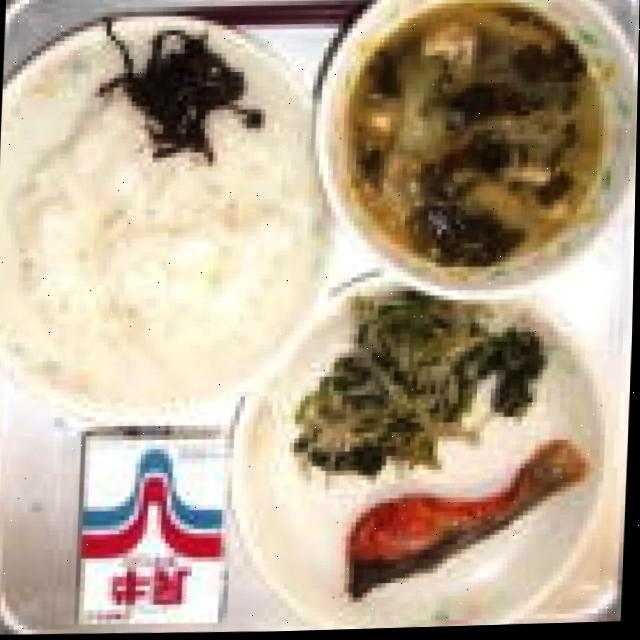熟制海鲜: (313, 442, 583, 632)
